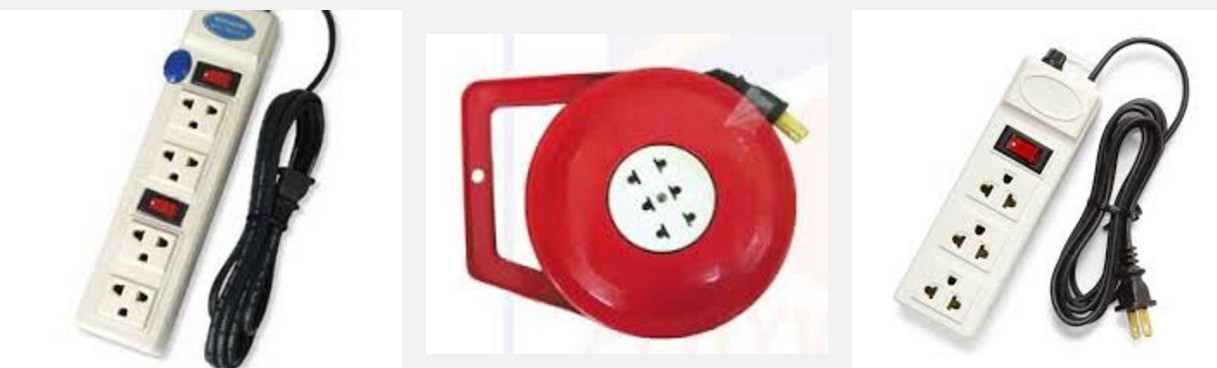Three_eye_plug: (449, 59, 808, 345), (63, 8, 345, 368), (884, 31, 1205, 347)
